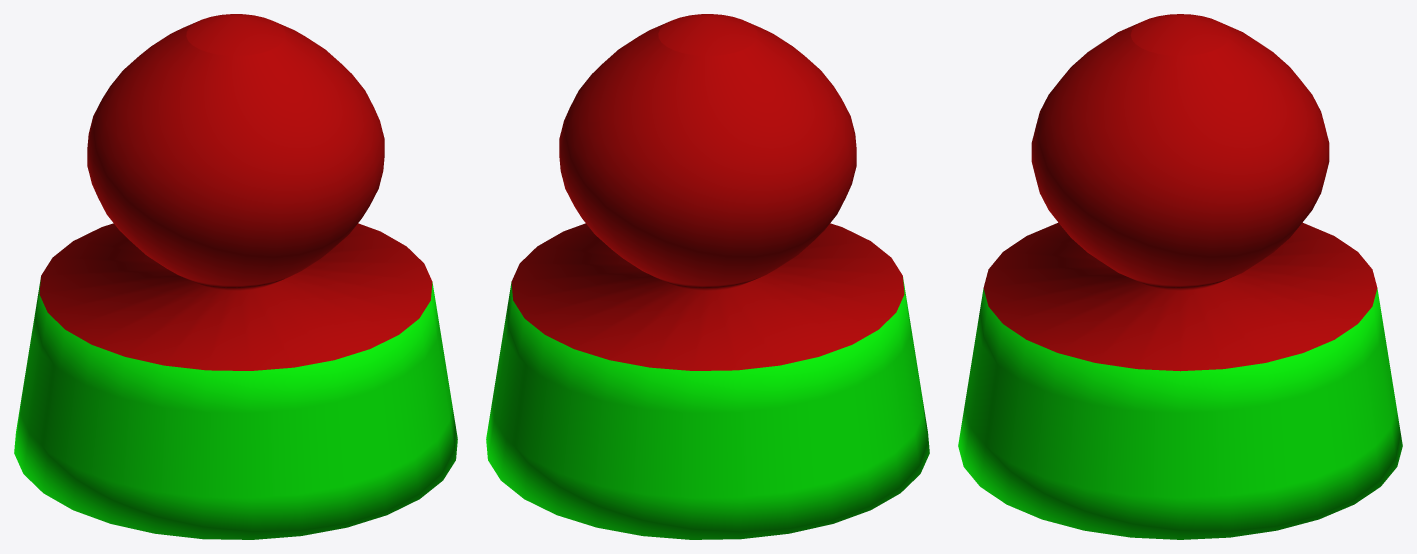
The model's file is Morel_Growth.glb.
3 renders of one model, left to right at view 1: azimuth 30°, elevation 25°; view 2: azimuth 150°, elevation 25°; view 3: azimuth 270°, elevation 25°, orthographic.
Parts seen in each view (by area): view 1: Morel; view 2: Morel; view 3: Morel.
Part boxes in pixels (bbox=[...]): Morel: bbox=[14, 14, 457, 539]; Morel: bbox=[486, 14, 929, 539]; Morel: bbox=[958, 14, 1402, 539].
Bounding box in the file's own units: 0.0179 × 0.019 × 0.0179.
